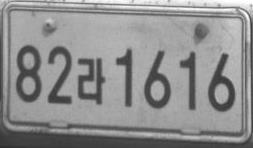1: (176, 51, 204, 111), (112, 48, 139, 107)
2: (46, 45, 73, 104)
6: (207, 52, 236, 113), (143, 50, 171, 109)
8: (14, 44, 42, 104)
라: (76, 57, 106, 105)
